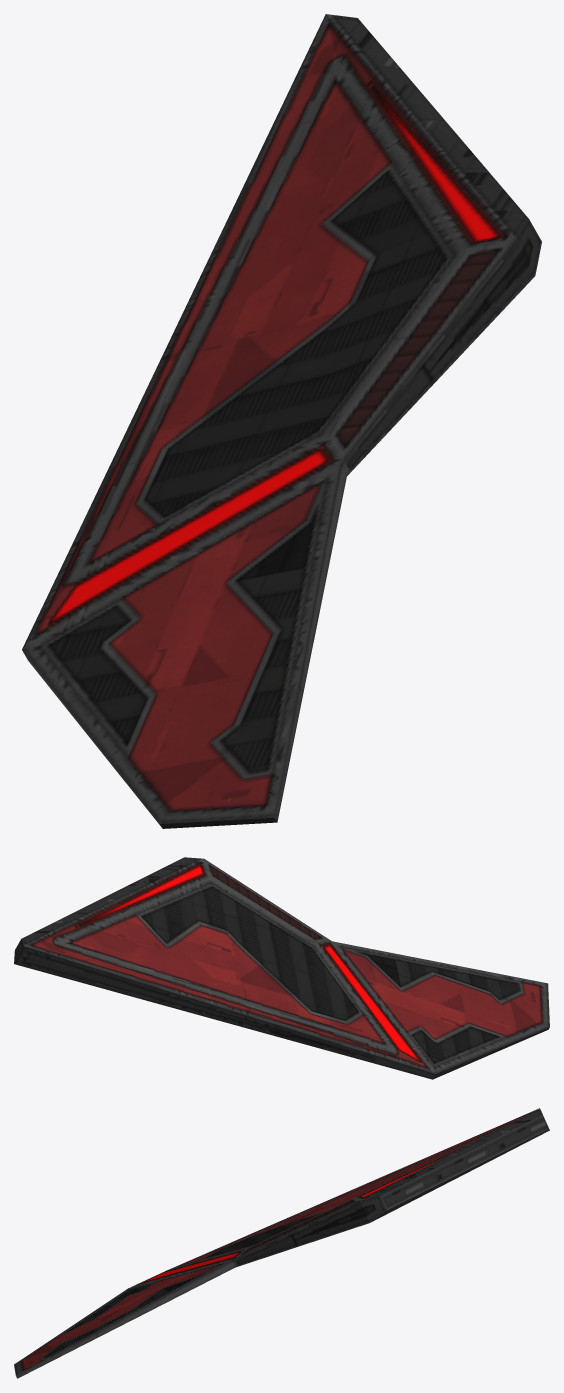
File: BFP_LargeWing_Right.FBX
3 views of the same model, one above another, from view 1: azimuth 30°, elevation 25°; view 2: azimuth 150°, elevation 25°; view 3: azimuth 330°, elevation 25° (orthographic). The views are drawn at different scales.
Visible parts, largest first — view 1: BFP_LargeWing_Right; view 2: BFP_LargeWing_Right; view 3: BFP_LargeWing_Right.
Part boxes in pixels (bbox=[...]): BFP_LargeWing_Right: bbox=[22, 14, 541, 828]; BFP_LargeWing_Right: bbox=[14, 857, 549, 1079]; BFP_LargeWing_Right: bbox=[14, 1108, 549, 1378].
Bounding box in the file's own units: 429 × 220 × 579.
Materials: 1 (1 with a texture image).
